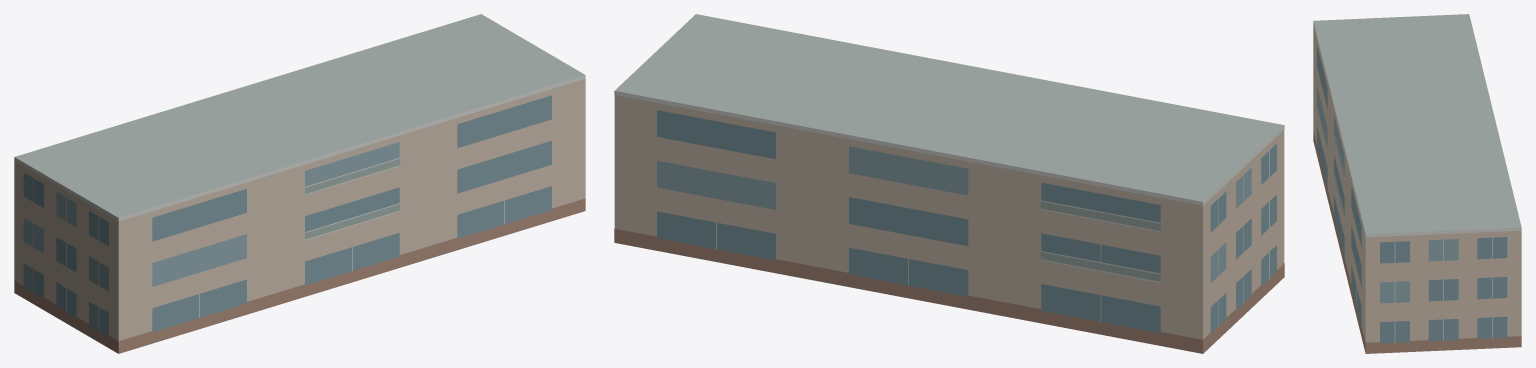
The model's file is survey-upis-32944640.glb.
3 renders of one model, left to right at view 1: azimuth 30°, elevation 25°; view 2: azimuth 150°, elevation 25°; view 3: azimuth 270°, elevation 25°, orthographic. The views are drawn at different scales.
Visible parts, largest first — view 1: survey-upis-32944640.tmp; view 2: survey-upis-32944640.tmp; view 3: survey-upis-32944640.tmp.
Boxes of the visible parts, bbox=[...] form: survey-upis-32944640.tmp: bbox=[14, 14, 585, 353]; survey-upis-32944640.tmp: bbox=[614, 14, 1284, 353]; survey-upis-32944640.tmp: bbox=[1313, 14, 1521, 353].
Size of the model in its own units: 36.1 by 9.15 by 14.44.
